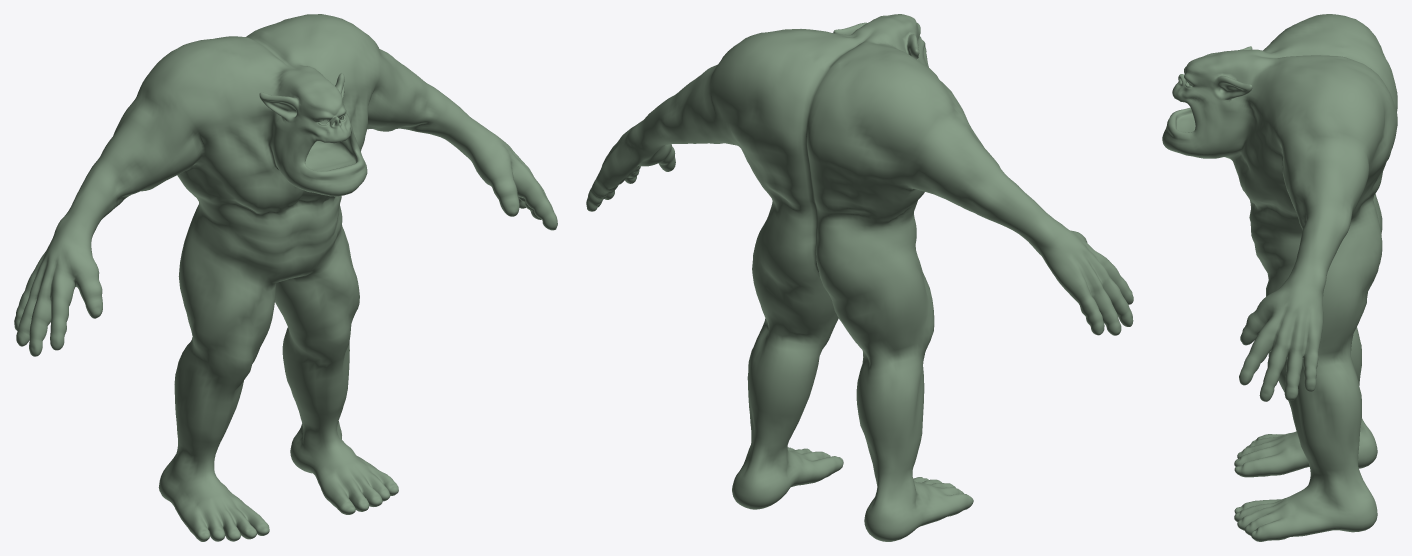
Rendered from orc_body.fbx.
The picture shows the model from 3 angles, left to right: view 1: azimuth 30°, elevation 25°; view 2: azimuth 150°, elevation 25°; view 3: azimuth 270°, elevation 25°; orthographic projection. The views are drawn at different scales.
Parts seen in each view (by area): view 1: orc_body; view 2: orc_body; view 3: orc_body.
Boxes of the visible parts, x1,y1,x2,y2 form: orc_body: [14, 14, 557, 541]; orc_body: [586, 14, 1133, 541]; orc_body: [1162, 14, 1397, 541].
Size of the model in its own units: 282 by 236 by 111.
